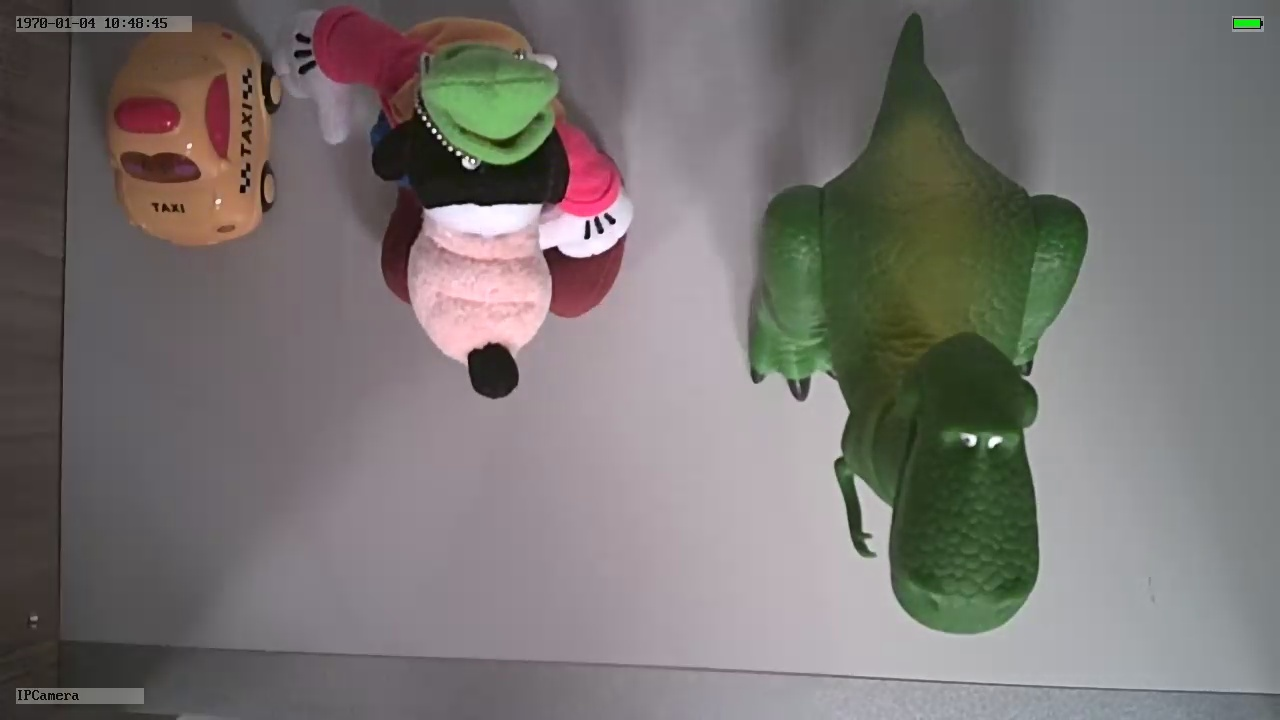goofy: (274, 12, 635, 402)
rex: (749, 81, 1089, 639)
